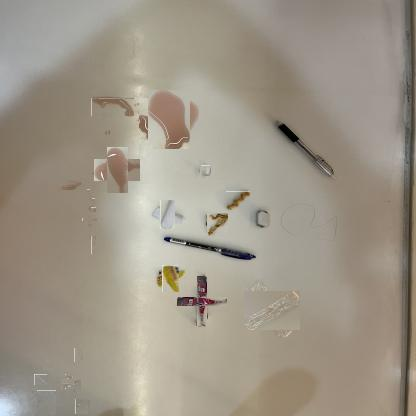dirty: (248, 286, 296, 334), (187, 286, 217, 316), (160, 267, 182, 290), (157, 203, 179, 226), (206, 214, 228, 236), (226, 191, 250, 210), (200, 166, 211, 176)
liquid: (144, 94, 194, 145), (100, 153, 134, 187), (91, 98, 134, 116), (35, 392, 58, 416), (63, 376, 79, 392), (75, 399, 89, 414), (58, 182, 82, 190), (34, 373, 47, 386), (74, 348, 83, 362), (91, 236, 96, 254), (85, 215, 95, 224), (90, 207, 96, 212), (106, 131, 110, 136), (91, 198, 95, 203), (87, 189, 90, 192)
